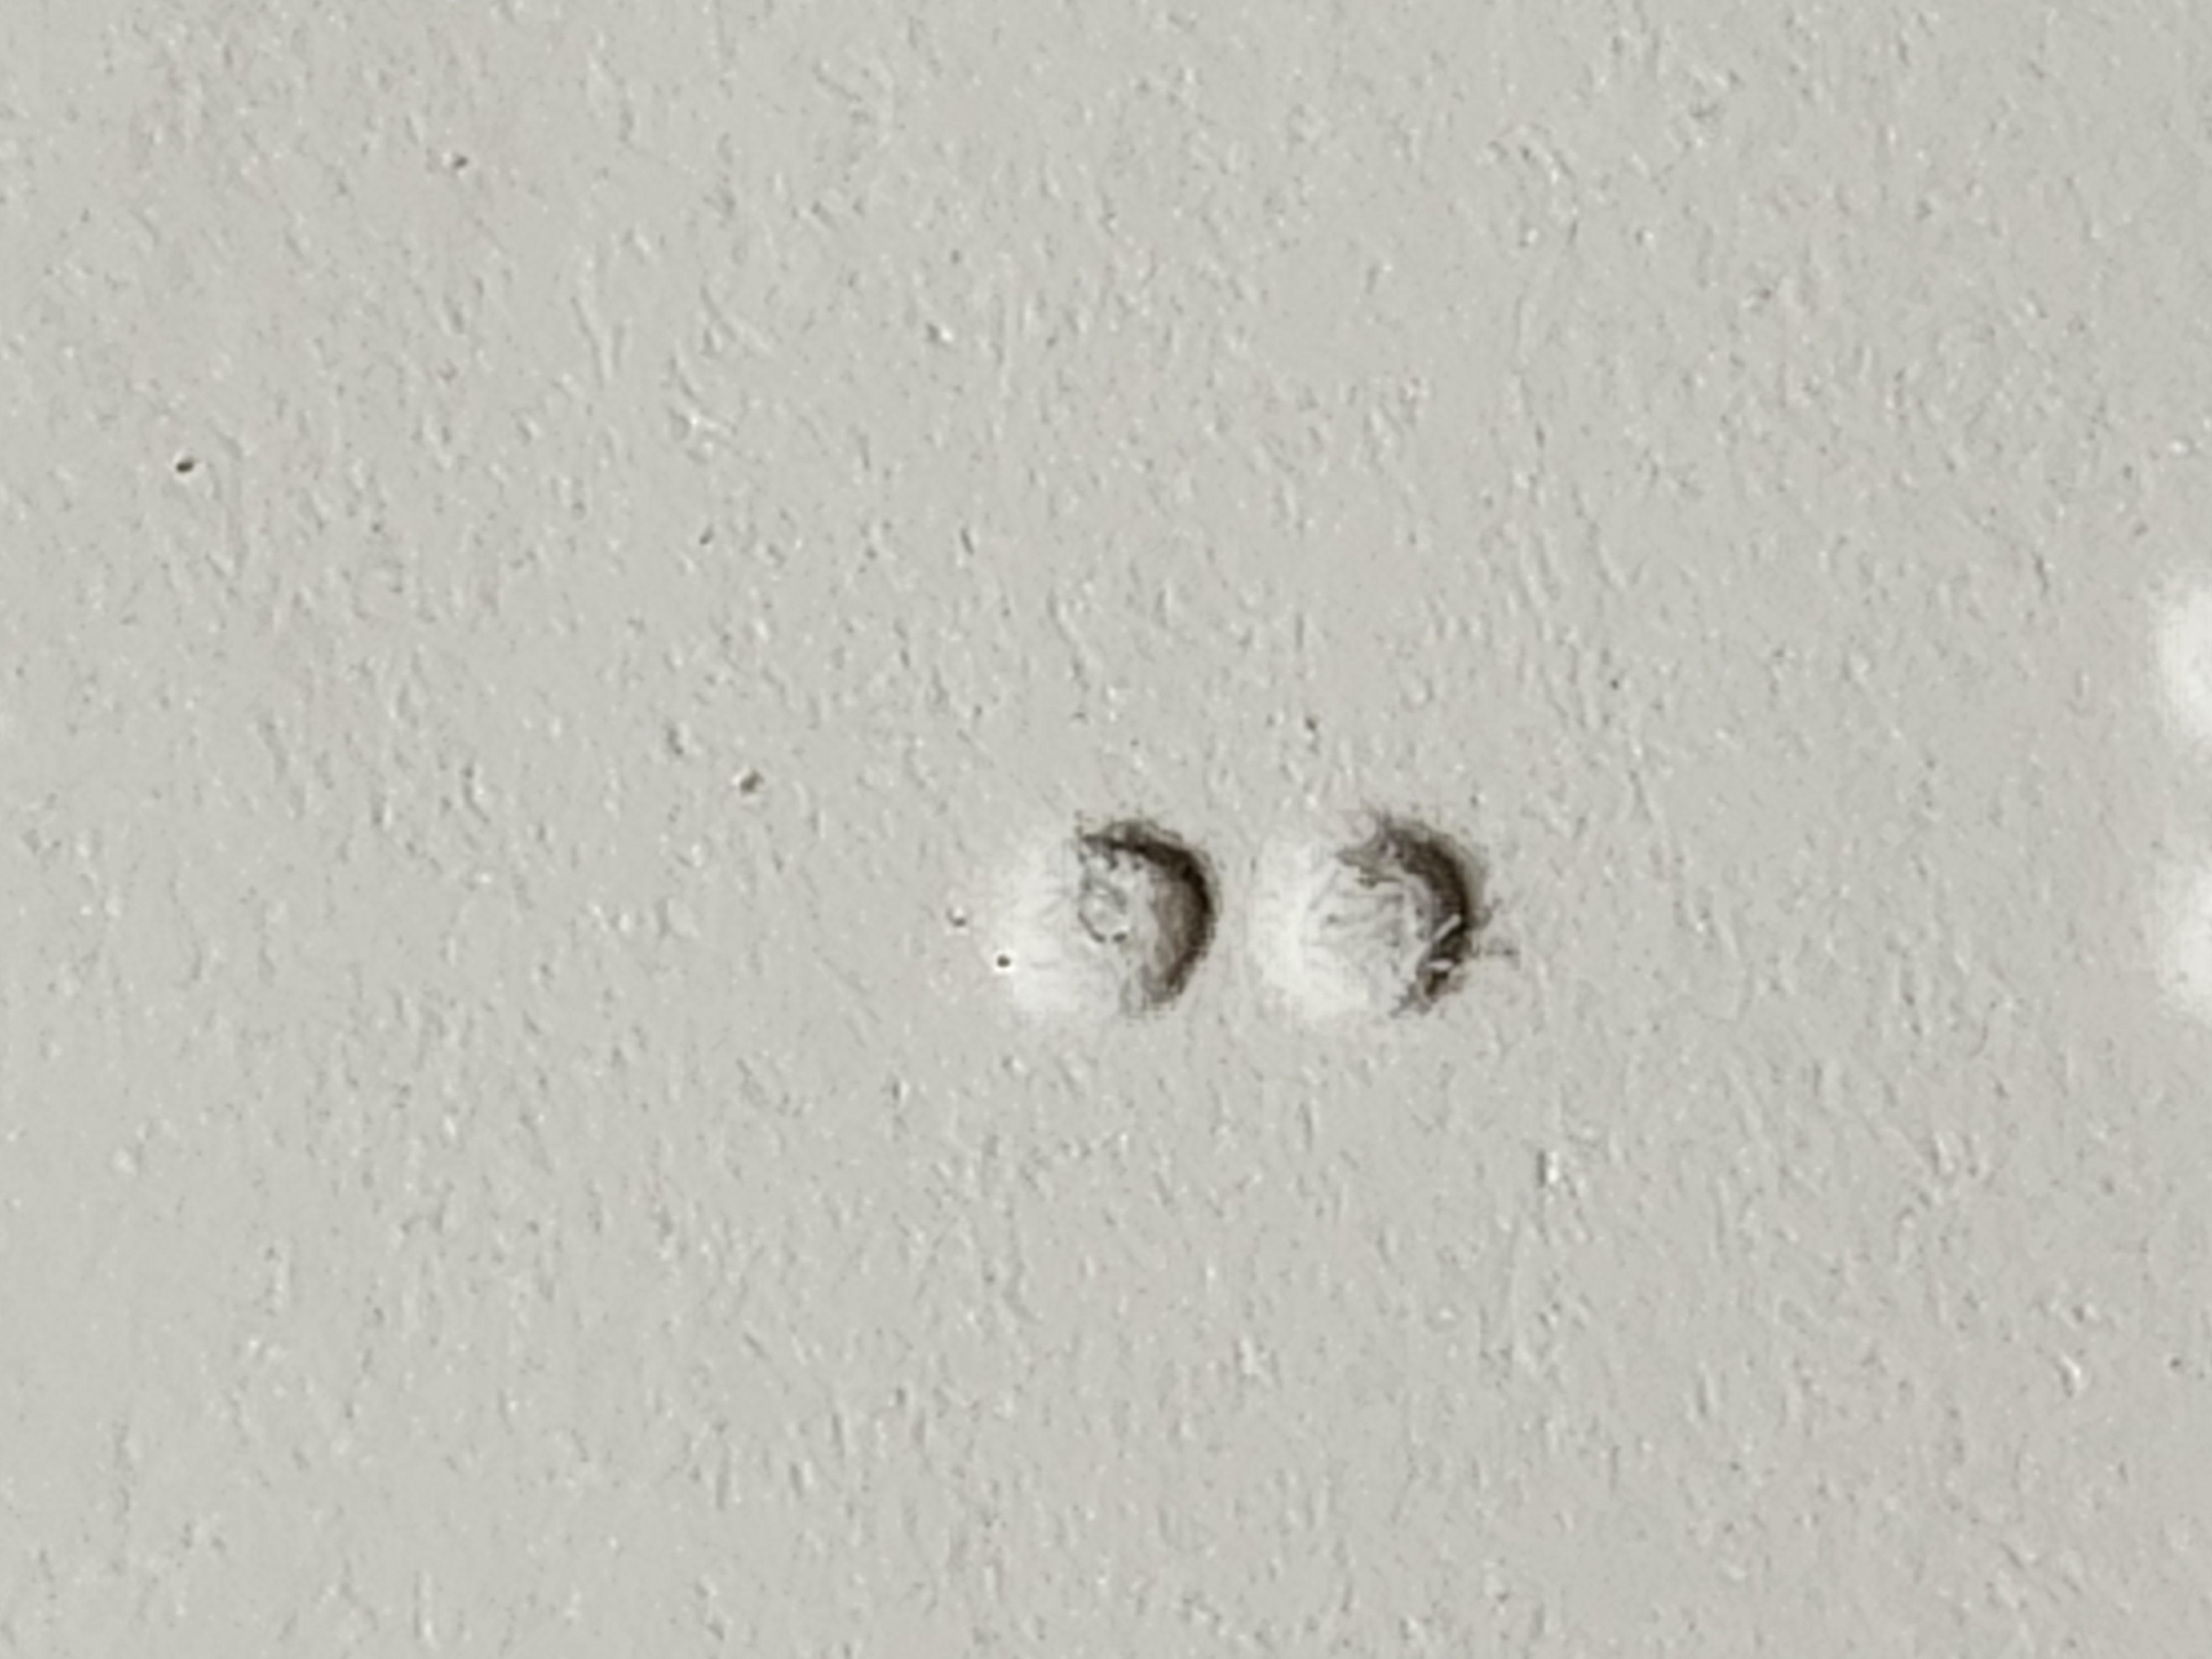one_cell_alphabet_bakit: (857, 742, 1470, 1319)
